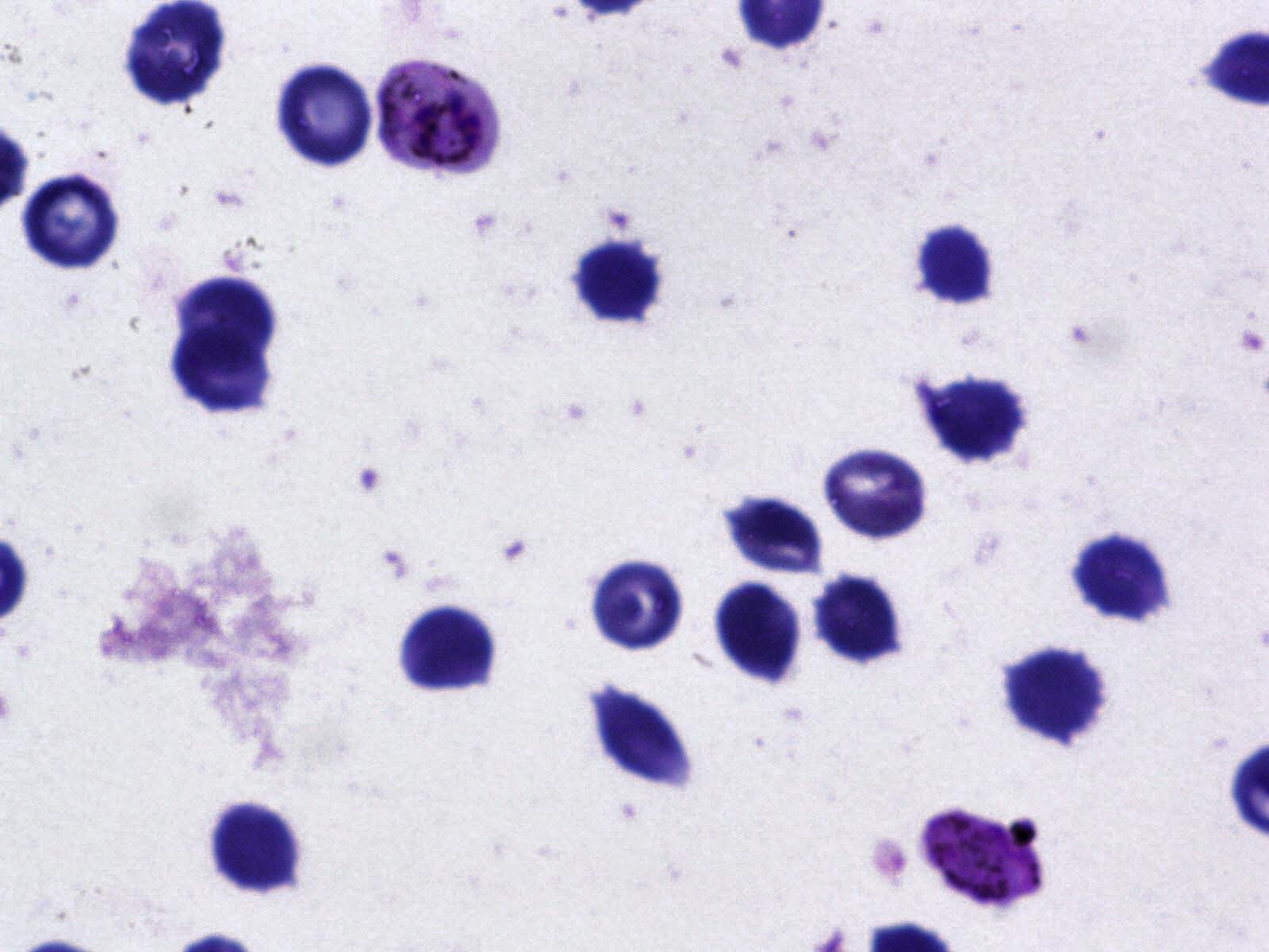Infected: (382, 60, 496, 174), (917, 809, 1042, 907)
Uninfected: (274, 66, 376, 169), (128, 1, 224, 105), (22, 172, 120, 268), (1006, 650, 1106, 741), (712, 582, 801, 682), (592, 557, 686, 651), (171, 324, 267, 416), (398, 605, 503, 689), (823, 451, 925, 537), (594, 689, 684, 782), (210, 804, 299, 893), (1075, 536, 1169, 620), (930, 381, 1023, 465), (182, 274, 271, 360), (815, 574, 901, 662), (576, 243, 665, 323), (726, 497, 816, 567), (916, 228, 995, 307)
